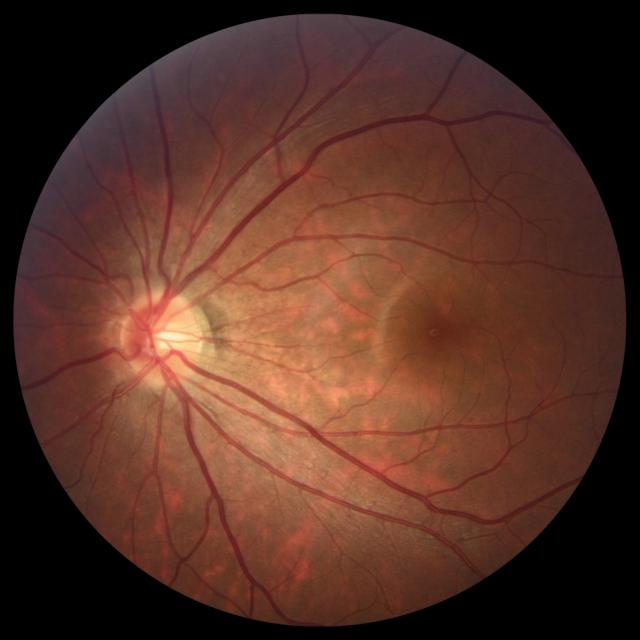OC: (141, 319, 181, 357)
OD: (122, 289, 204, 385)
